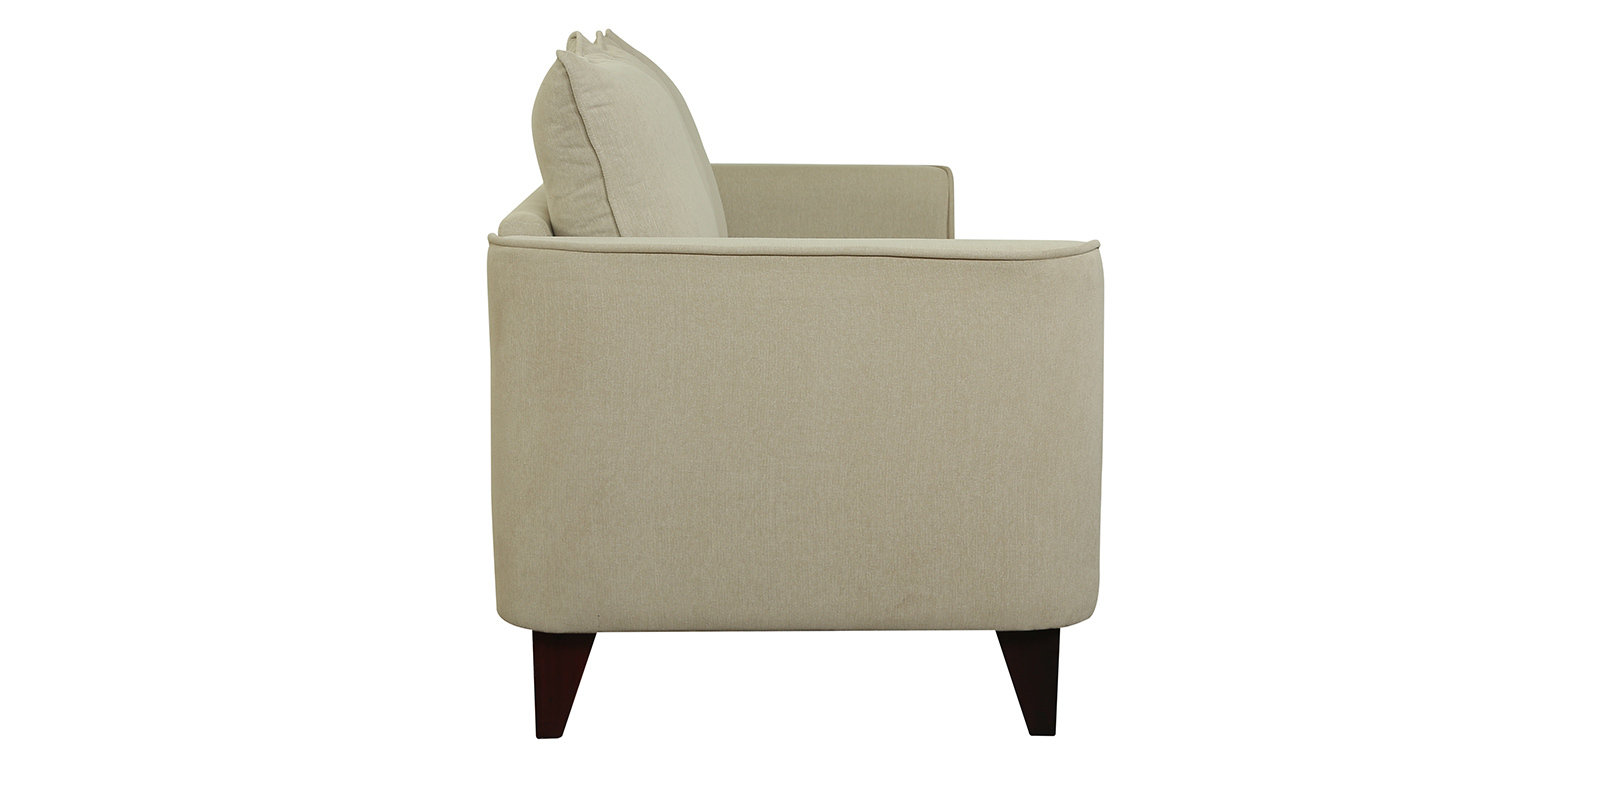Lara Three Seater Sofa in Beige Colour by CasaCraft: (485, 26, 1102, 737)
